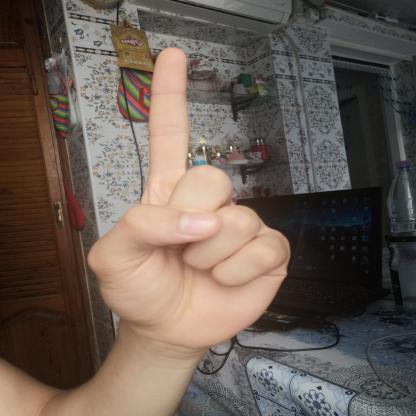BAA: (67, 34, 308, 360)
